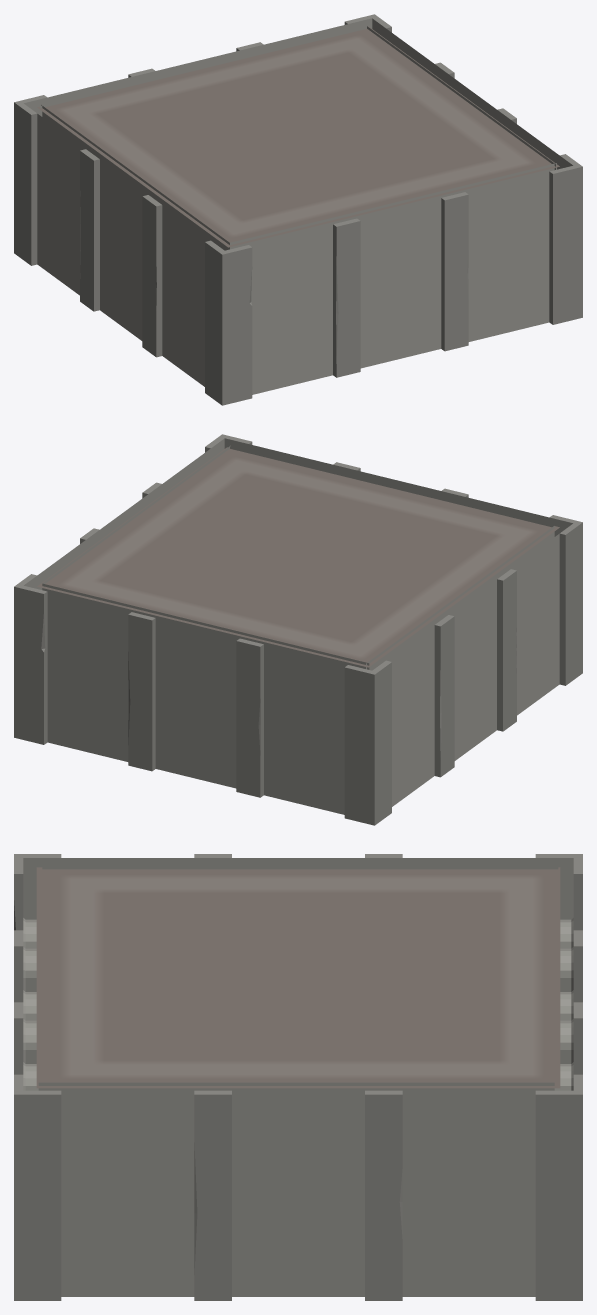
Rendered from SM_Bldg_City_High-Rise_01_Top.fbx.
3 renders of one model, top to bottom at view 1: azimuth 30°, elevation 25°; view 2: azimuth 150°, elevation 25°; view 3: azimuth 270°, elevation 25°, orthographic. The views are drawn at different scales.
Parts seen in each view (by area): view 1: SM_Bldg_City_High-Rise_01_Top; view 2: SM_Bldg_City_High-Rise_01_Top; view 3: SM_Bldg_City_High-Rise_01_Top.
Boxes of the visible parts, bbox=[...] form: SM_Bldg_City_High-Rise_01_Top: bbox=[14, 14, 582, 405]; SM_Bldg_City_High-Rise_01_Top: bbox=[14, 434, 582, 825]; SM_Bldg_City_High-Rise_01_Top: bbox=[14, 854, 582, 1300].
Size of the model in its own units: 1500 by 600 by 1500.
